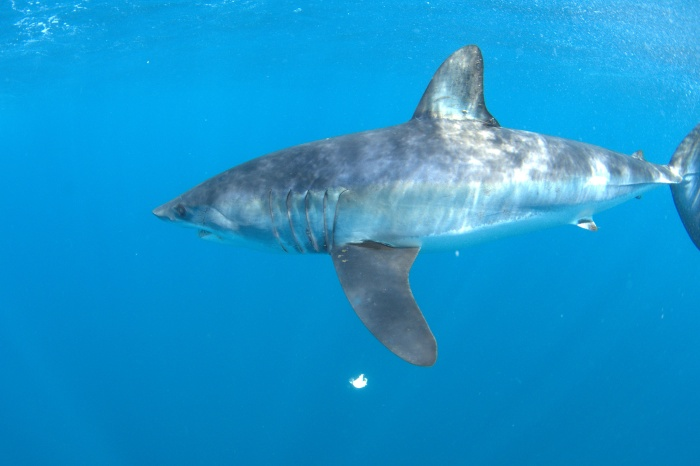Mako: (142, 42, 700, 374)
